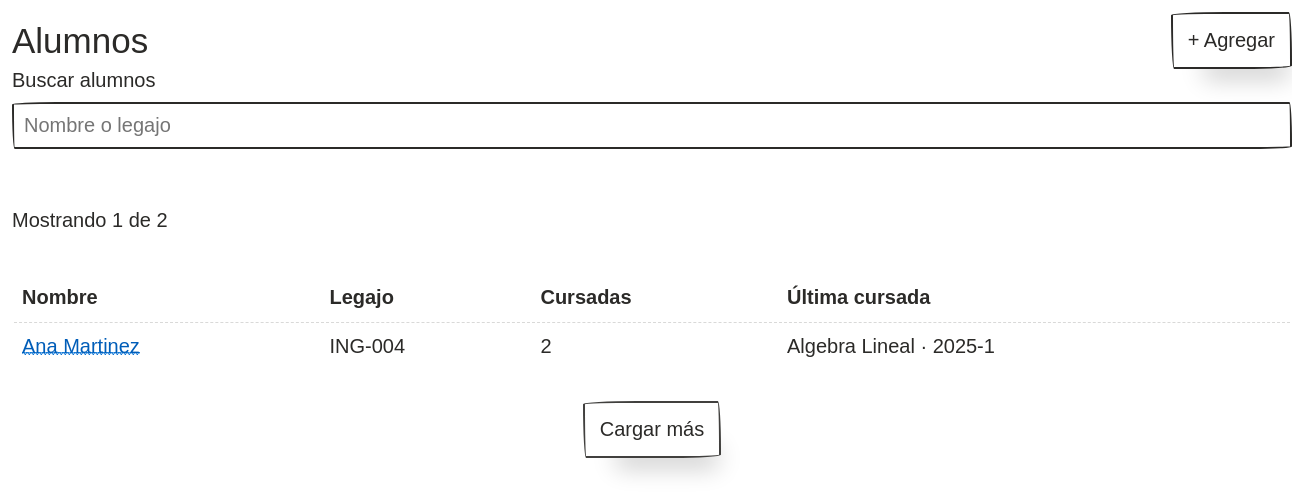
it: loads the next page and appends it
Click the button with test id "persons-load-more": (652, 430) [583,401,721,458]
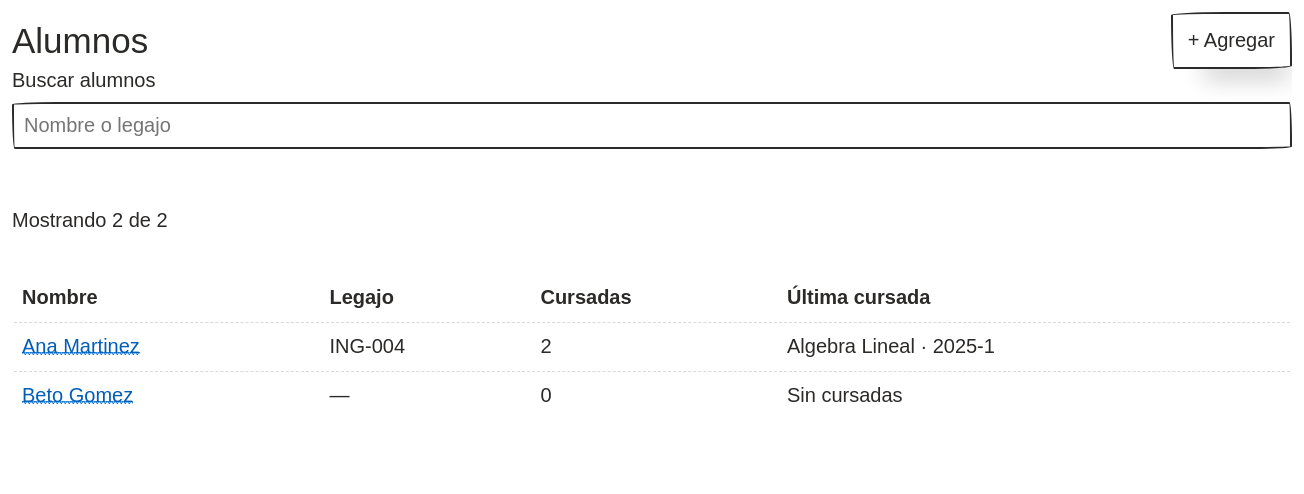
Expected: the text "Ana Martinez" is shown, [22,335,140,357]
Expected: the text "Beto Gomez" is shown, [22,384,133,406]
